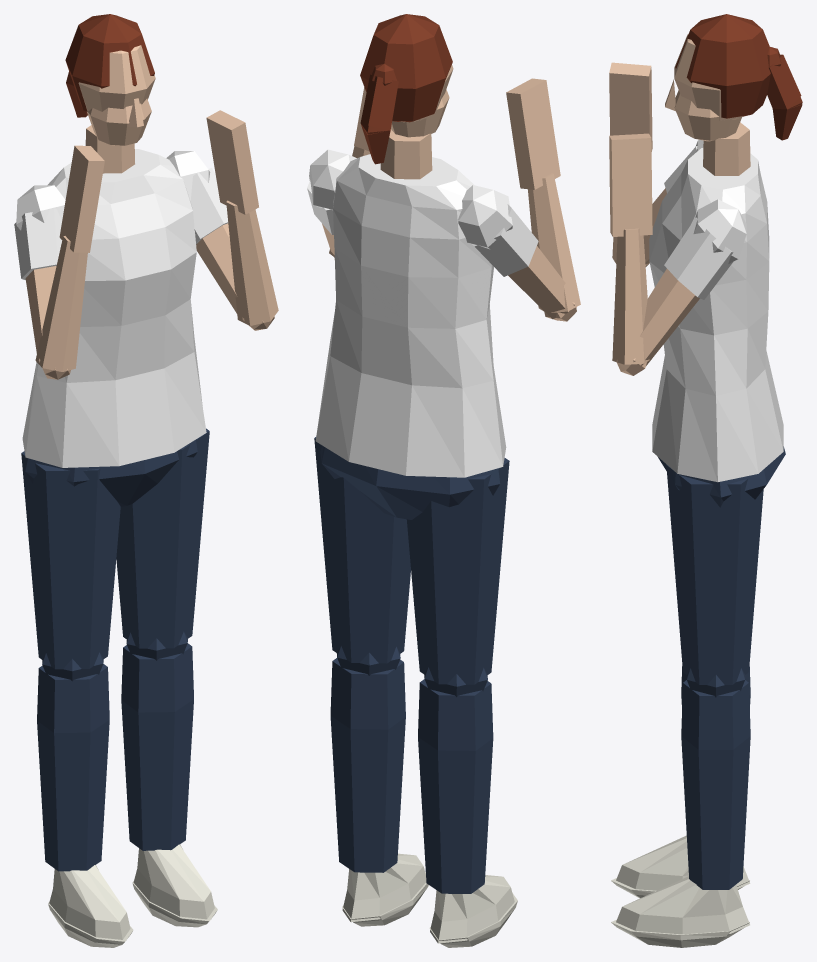
File: fan.glb
The picture shows the model from 3 angles, left to right: view 1: azimuth 30°, elevation 25°; view 2: azimuth 150°, elevation 25°; view 3: azimuth 270°, elevation 25°; orthographic projection. The views are drawn at different scales.
Visible parts, largest first — view 1: joint_body, joint_shinR, joint_shinL, joint_thighL, joint_thighR, joint_head, joint_forearmR, joint_forearmL, joint_armL, joint_armR; view 2: joint_body, joint_shinL, joint_shinR, joint_thighL, joint_thighR, joint_head, joint_forearmL, joint_armL, joint_armR; view 3: joint_body, joint_shinR, joint_thighR, joint_head, joint_forearmR, joint_armR, joint_forearmL, joint_shinL, joint_armL.
Part boxes in pixels (x1,y1,x2,y2): joint_body: [22, 149, 206, 506]; joint_shinR: [121, 643, 217, 927]; joint_shinL: [37, 664, 133, 947]; joint_thighL: [21, 451, 120, 681]; joint_thighR: [116, 428, 209, 660]; joint_head: [65, 14, 155, 173]; joint_forearmR: [206, 110, 278, 325]; joint_forearmL: [35, 145, 104, 371]; joint_armL: [14, 185, 70, 379]; joint_armR: [166, 151, 274, 330]; joint_body: [315, 154, 506, 519]; joint_shinL: [418, 679, 517, 947]; joint_shinR: [330, 658, 428, 926]; joint_thighL: [406, 458, 509, 697]; joint_thighR: [314, 437, 410, 675]; joint_head: [360, 14, 453, 179]; joint_forearmL: [506, 78, 580, 312]; joint_armL: [458, 185, 576, 321]; joint_armR: [307, 149, 356, 259]; joint_body: [649, 148, 785, 507]; joint_shinR: [611, 680, 750, 947]; joint_thighR: [666, 464, 763, 697]; joint_head: [665, 14, 802, 175]; joint_forearmR: [609, 133, 652, 364]; joint_armR: [616, 199, 746, 375]; joint_forearmL: [609, 62, 652, 265]; joint_shinL: [611, 666, 750, 898]; joint_armL: [614, 139, 703, 266].
Size of the model in its own units: 0.5 by 1.8 by 0.35.
